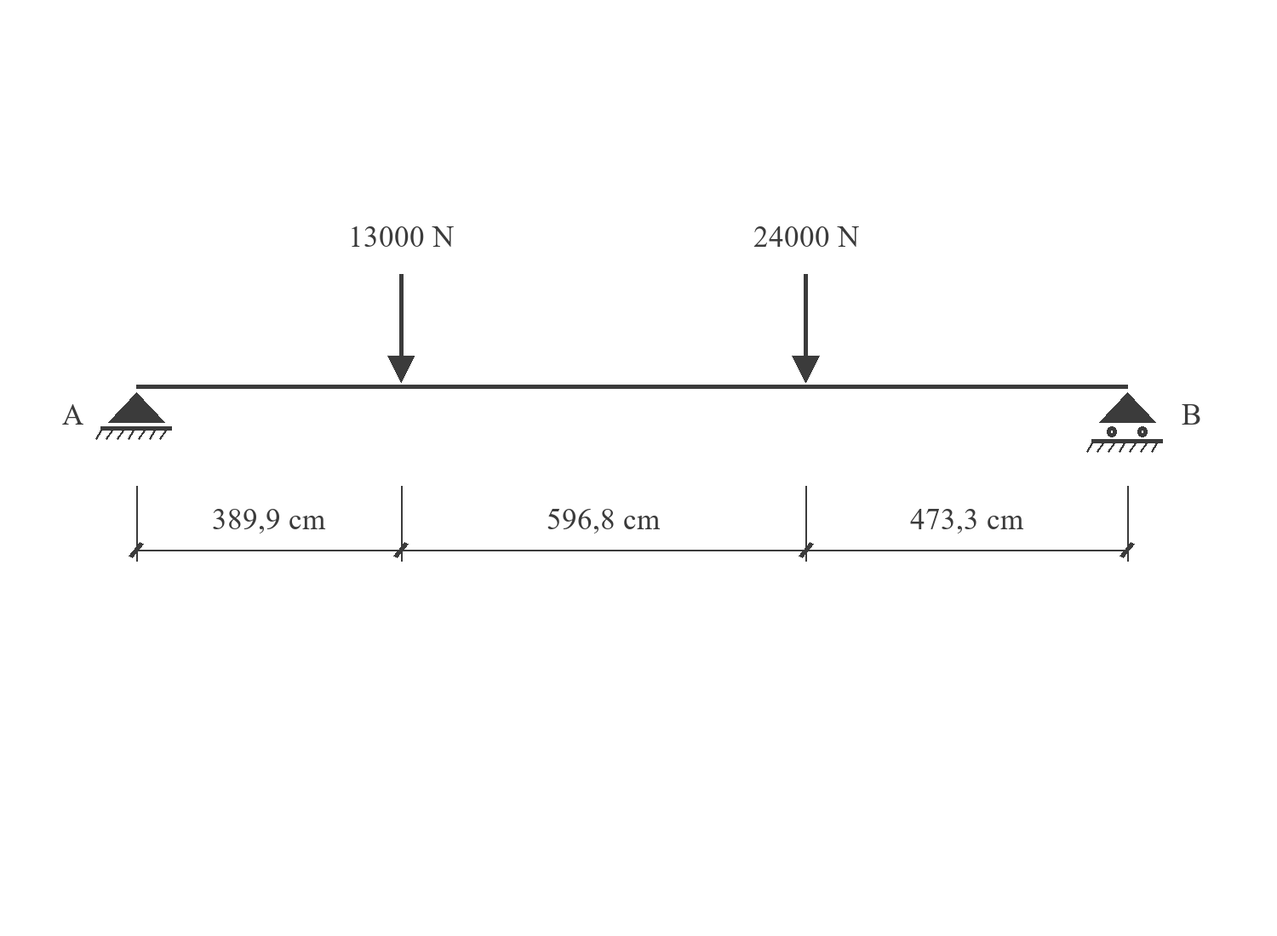pin_support: (95, 392, 172, 440)
point_load: (387, 274, 415, 383), (792, 274, 820, 383)
roller_support: (1086, 392, 1163, 453)
